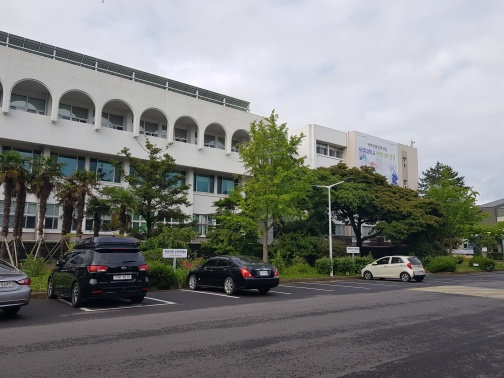Main Building of University: (2, 31, 419, 246), (4, 32, 252, 242), (13, 76, 200, 150), (293, 117, 419, 187)
